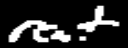rat: (0, 0, 128, 48)
